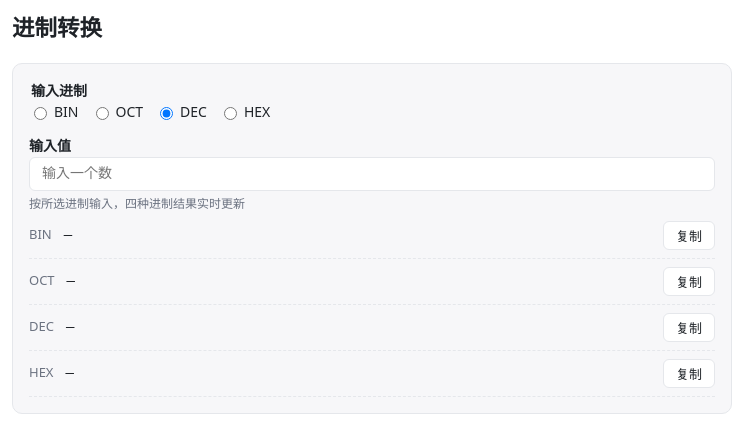
it: AC-4 BIN 输入 › AC-4: 切到 BIN 输入 1010 → DEC 10 / OCT 12 / HEX A
Click the radio button labelled "BIN": (40, 113) [34, 107, 47, 120]
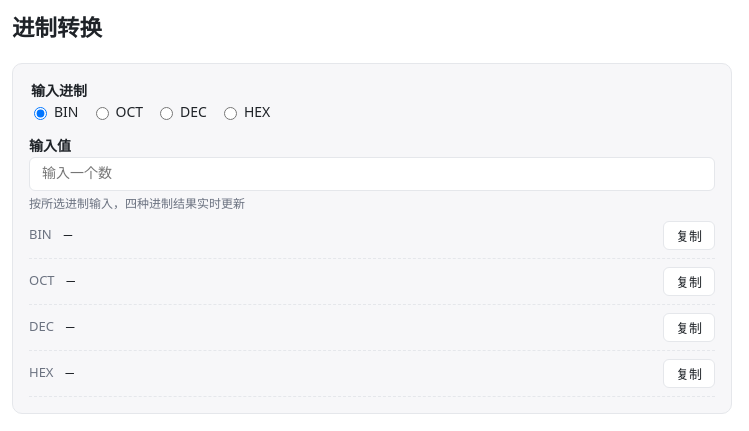
In the field labelled "输入值": (372, 174) [29, 157, 715, 191], type "1010"
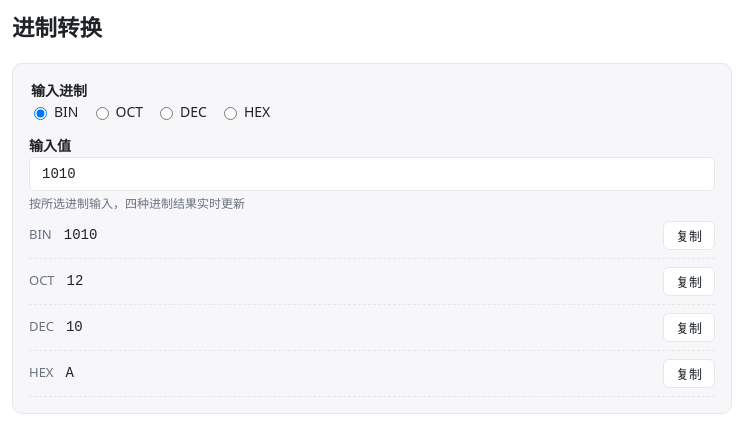
Expected: the text "10" is shown, [66, 319, 83, 335]
Expected: the text "12" is shown, [67, 273, 83, 289]
Expected: the text "A" is shown, [66, 365, 74, 381]
